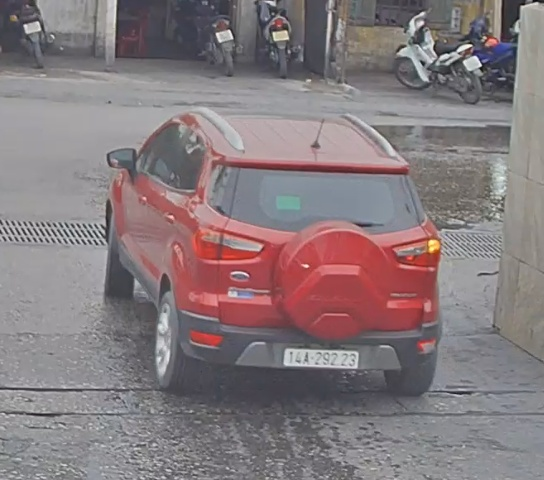vehicle plate: (279, 344, 363, 373)
